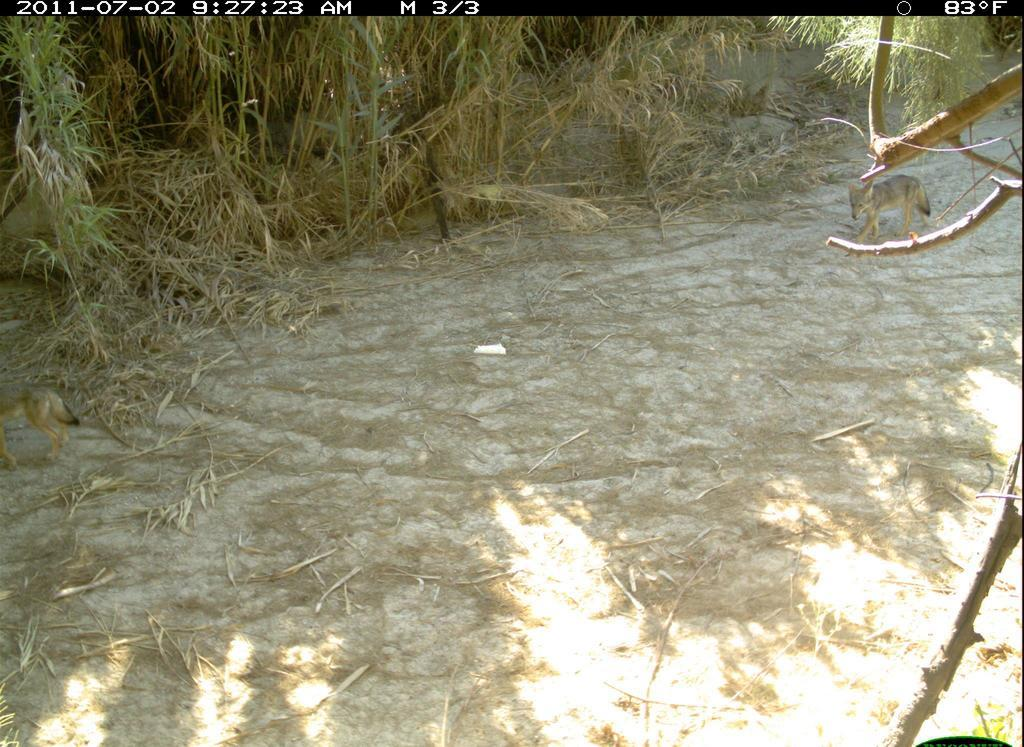coyote: (836, 163, 941, 250), (6, 374, 95, 472)
